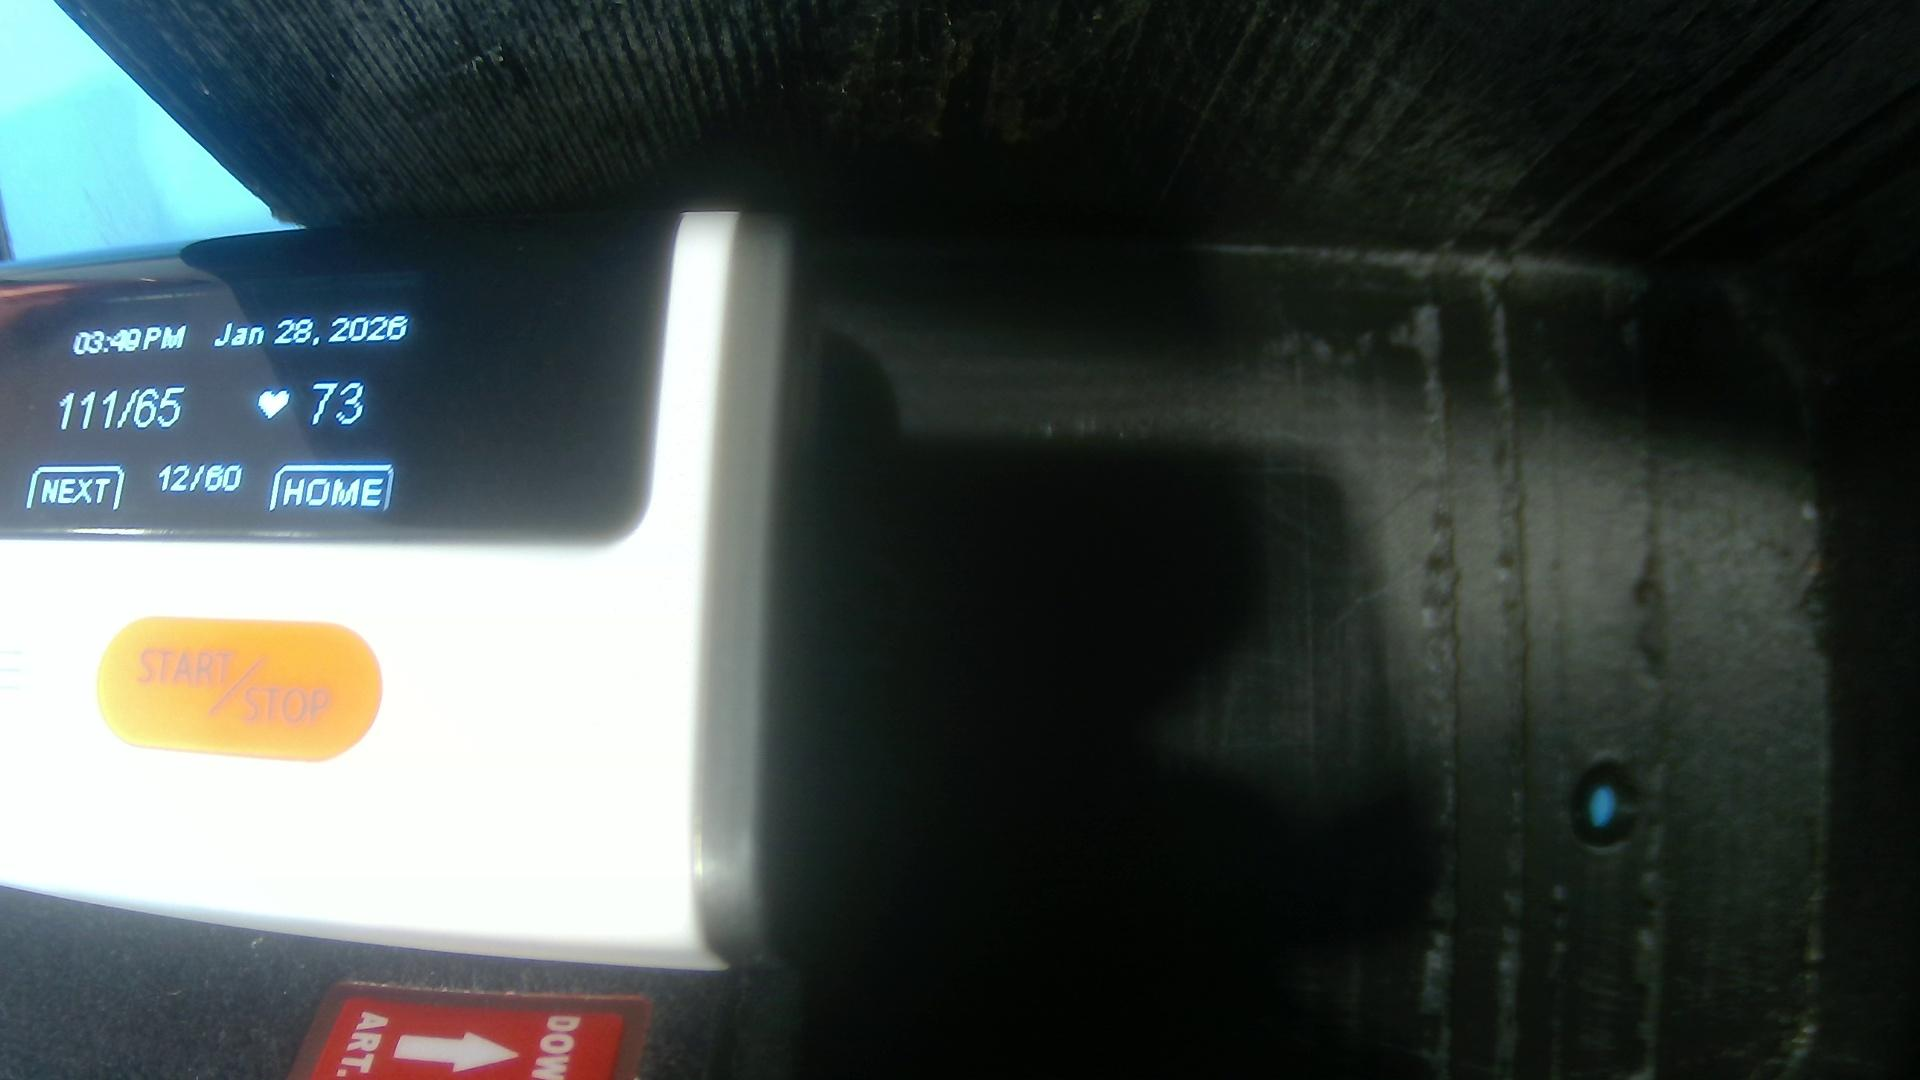DISPLAY: (1, 207, 679, 553)
